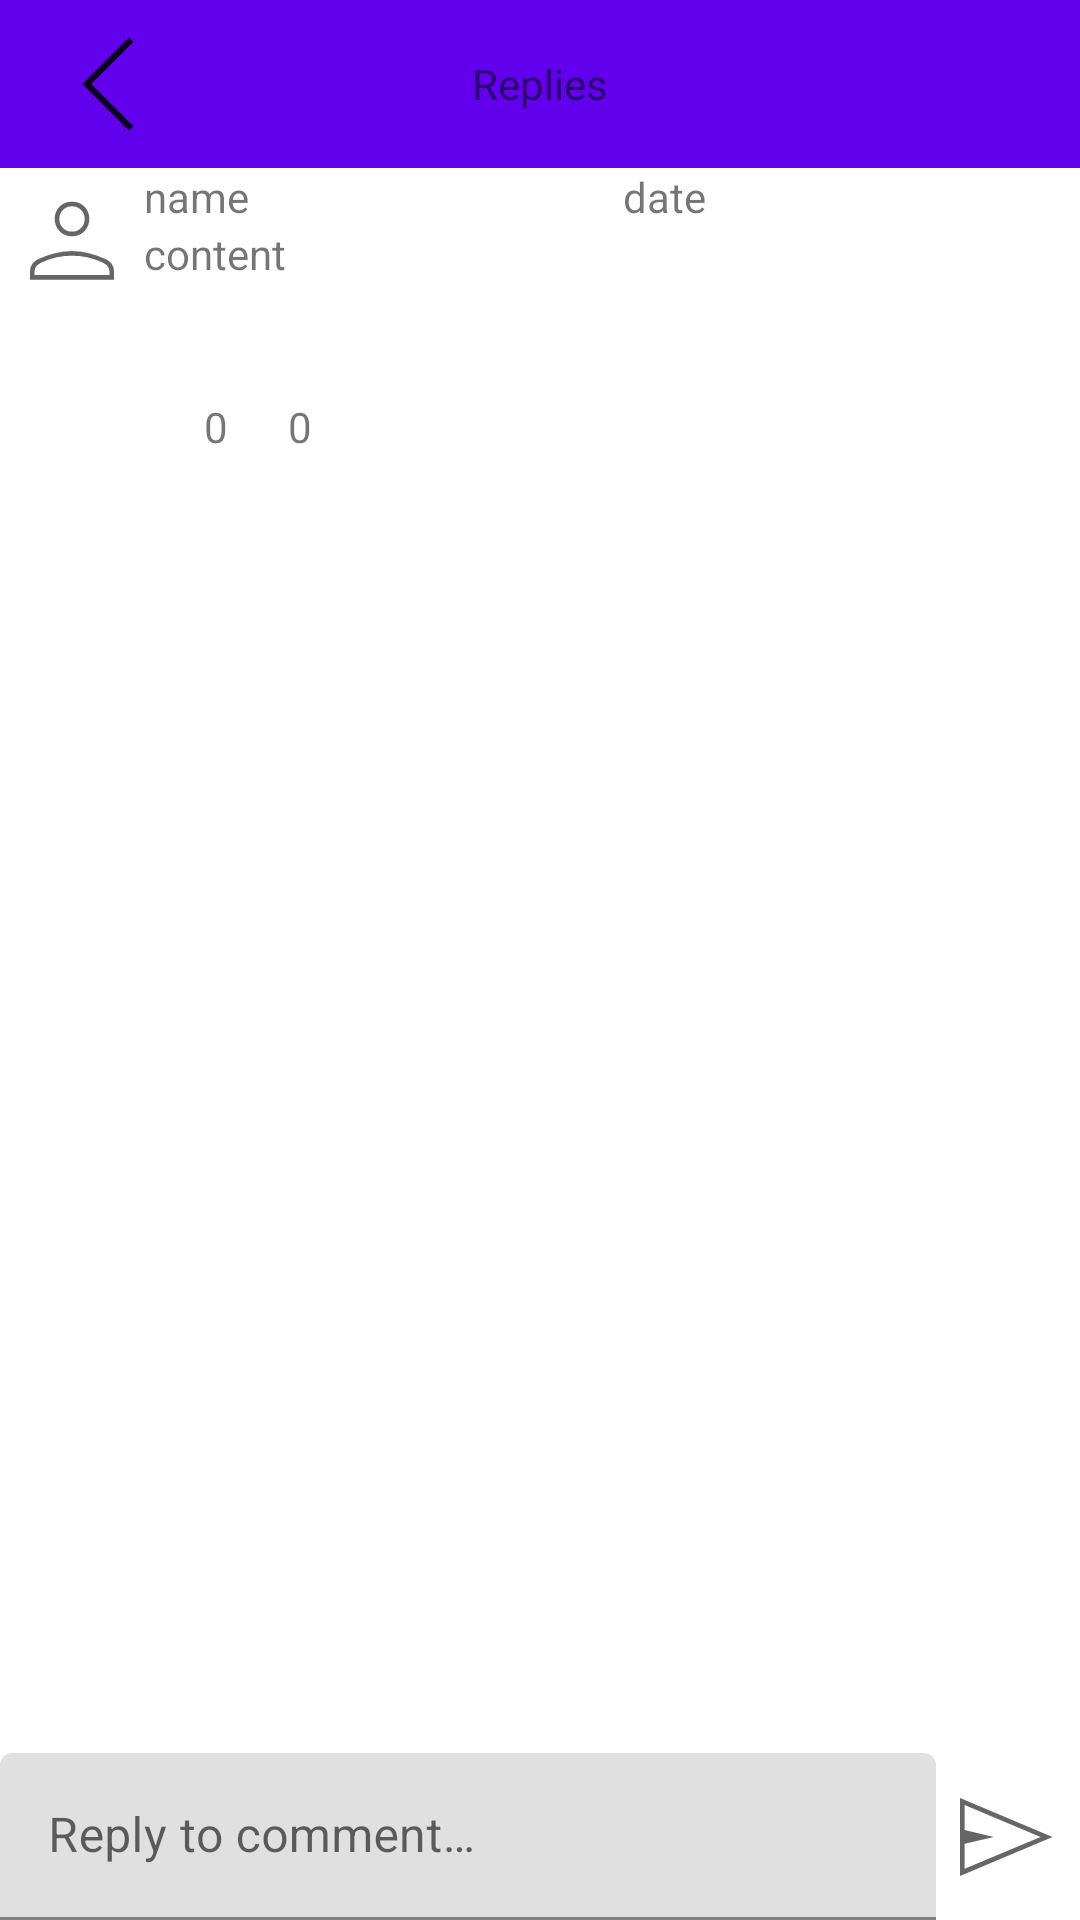

Icon click points for this 1080x1920 phone screenshot, format (x,y):
arrow back: (107,84)
person: (72,240)
send: (1006,1837)
